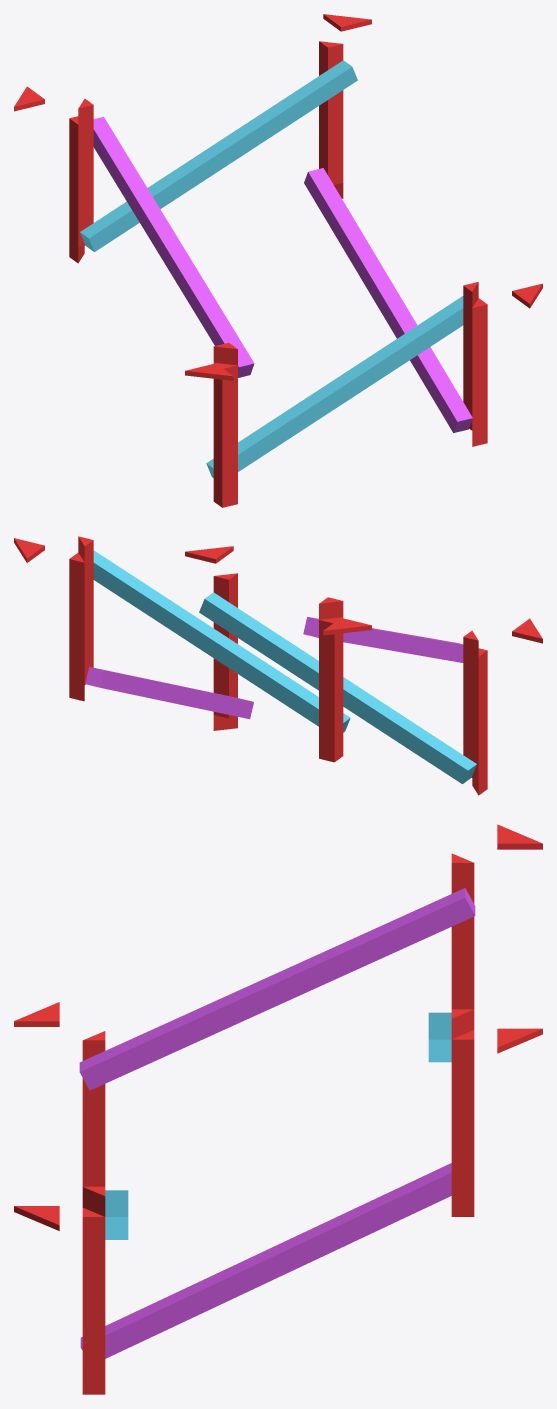
File: ModuleAssembly_layer1_10.obj
The picture shows the model from 3 angles, top to bottom: view 1: azimuth 30°, elevation 25°; view 2: azimuth 150°, elevation 25°; view 3: azimuth 270°, elevation 25°; orthographic projection. The views are drawn at different scales.
Parts seen in each view (by area): view 1: object_5, object_4, object_2, object_3, object_9, object_6, object_7, object_8; view 2: object_4, object_5, object_7, object_8, object_9, object_2, object_3, object_6, object_10, object_11, object_1, object_12; view 3: object_3, object_2, object_6, object_8, object_7, object_9, object_5, object_4, object_1, object_10, object_11, object_12.
Part boxes in pixels (left/top/right/bottom): object_5: left=80, top=60, right=357, bottom=251; object_4: left=206, top=296, right=463, bottom=477; object_2: left=304, top=168, right=472, bottom=432; object_3: left=93, top=116, right=254, bottom=377; object_9: left=213, top=342, right=237, bottom=507; object_6: left=463, top=282, right=487, bottom=446; object_7: left=69, top=98, right=93, bottom=263; object_8: left=319, top=41, right=343, bottom=198; object_4: left=199, top=592, right=476, bottom=783; object_5: left=93, top=550, right=350, bottom=732; object_7: left=319, top=597, right=343, bottom=762; object_8: left=69, top=536, right=93, bottom=701; object_9: left=463, top=630, right=487, bottom=795; object_2: left=85, top=667, right=253, bottom=719; object_3: left=303, top=617, right=463, bottom=662; object_6: left=213, top=573, right=237, bottom=730; object_10: left=323, top=618, right=371, bottom=635; object_11: left=185, top=546, right=233, bottom=563; object_1: left=14, top=538, right=44, bottom=562; object_12: left=512, top=618, right=542, bottom=643; object_3: left=79, top=888, right=475, bottom=1090; object_2: left=80, top=1163, right=451, bottom=1358; object_6: left=82, top=1186, right=105, bottom=1394; object_8: left=451, top=1009, right=474, bottom=1216; object_7: left=451, top=853, right=474, bottom=1009; object_9: left=82, top=1031, right=105, bottom=1186; object_5: left=428, top=1012, right=451, bottom=1062; object_4: left=105, top=1190, right=128, bottom=1239; object_1: left=497, top=1028, right=542, bottom=1053; object_10: left=497, top=824, right=542, bottom=849; object_11: left=14, top=1206, right=59, bottom=1230; object_12: left=14, top=1002, right=59, bottom=1026.
Size of the model in its own units: 0.81 by 0.635 by 0.81.
